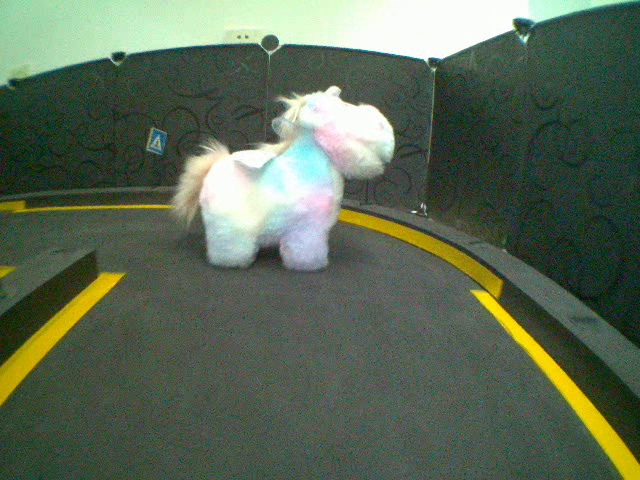unicorn: (169, 86, 391, 274)
